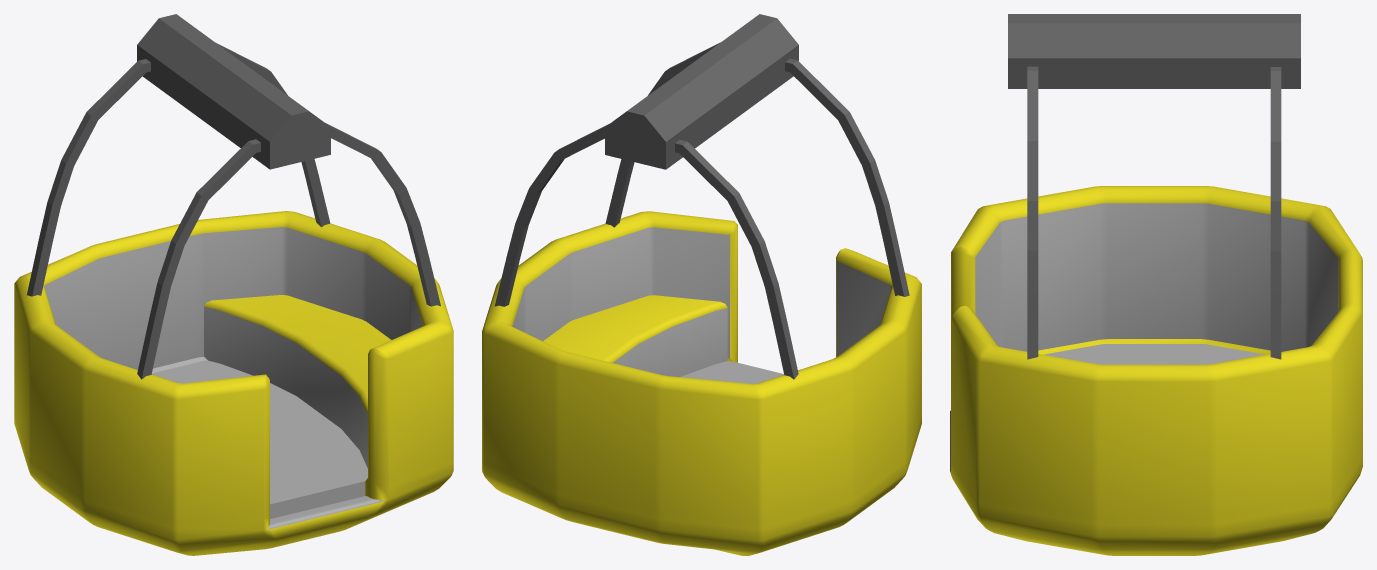
File: cabYellow.fbx
3 views of the same model, side by side, from view 1: azimuth 30°, elevation 25°; view 2: azimuth 150°, elevation 25°; view 3: azimuth 270°, elevation 25° (orthographic). The views are drawn at different scales.
Visible parts, largest first — view 1: Cab Yellow; view 2: Cab Yellow; view 3: Cab Yellow.
Boxes of the visible parts, bbox=[...] form: Cab Yellow: bbox=[14, 14, 453, 555]; Cab Yellow: bbox=[482, 14, 921, 555]; Cab Yellow: bbox=[950, 14, 1362, 555].
Size of the model in its own units: 245 by 223 by 279.
